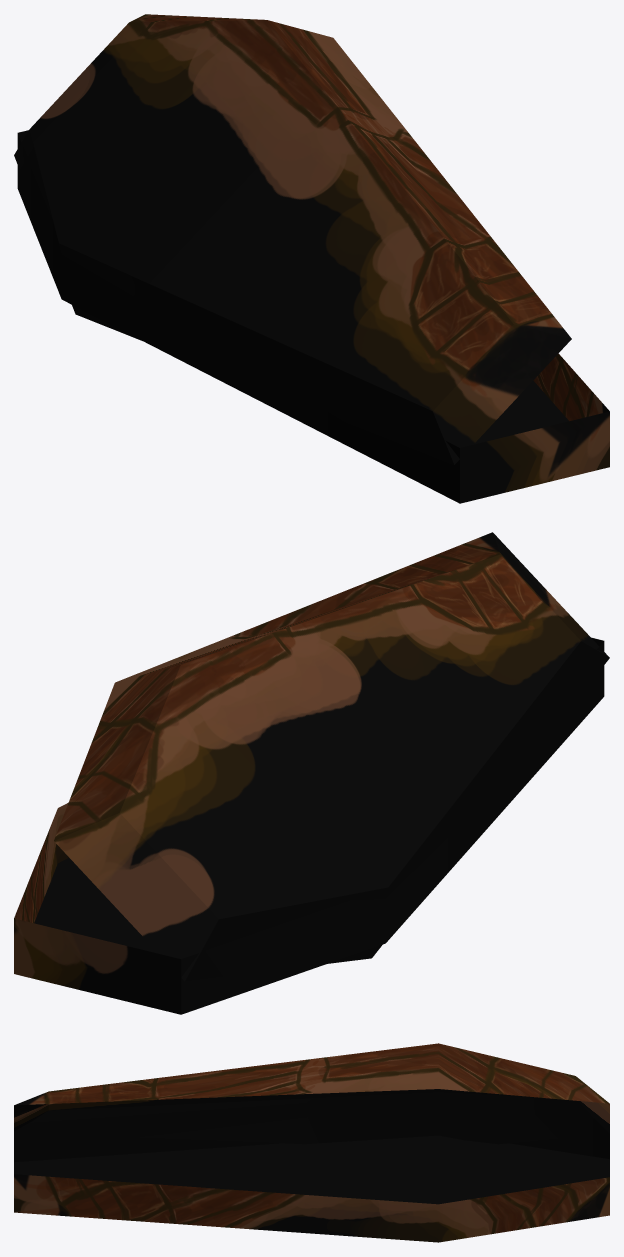
Rendered from Coffin Model.obj.
The picture shows the model from 3 angles, top to bottom: view 1: azimuth 30°, elevation 25°; view 2: azimuth 150°, elevation 25°; view 3: azimuth 270°, elevation 25°; orthographic projection. The views are drawn at different scales.
Parts seen in each view (by area): view 1: polySurface6; view 2: polySurface6; view 3: polySurface6.
Part boxes in pixels (x1,y1,x2,y2): polySurface6: [14, 14, 609, 503]; polySurface6: [14, 532, 609, 1014]; polySurface6: [14, 1043, 609, 1242].
Size of the model in its own units: 3.36 by 2.4 by 7.61.
